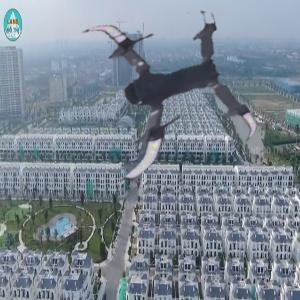drone: (68, 1, 248, 181)
